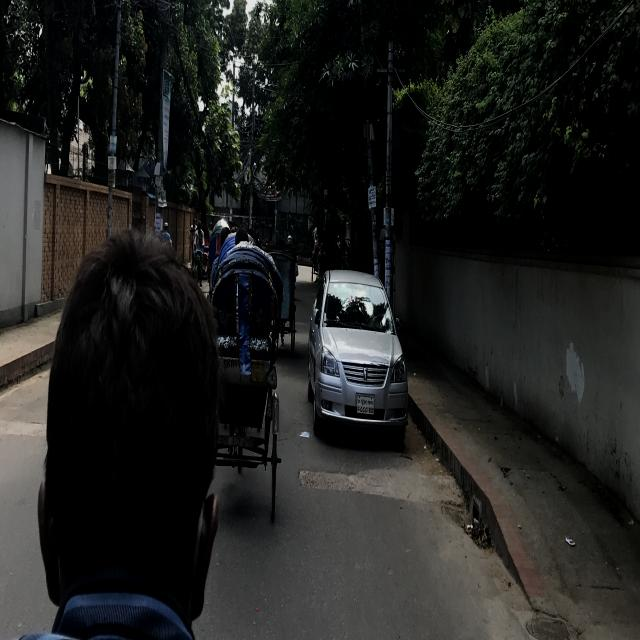silver: (306, 264, 411, 442)
